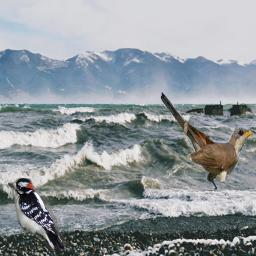Cuckoo: (160, 92, 256, 191)
Woodpecker: (8, 178, 66, 251)
